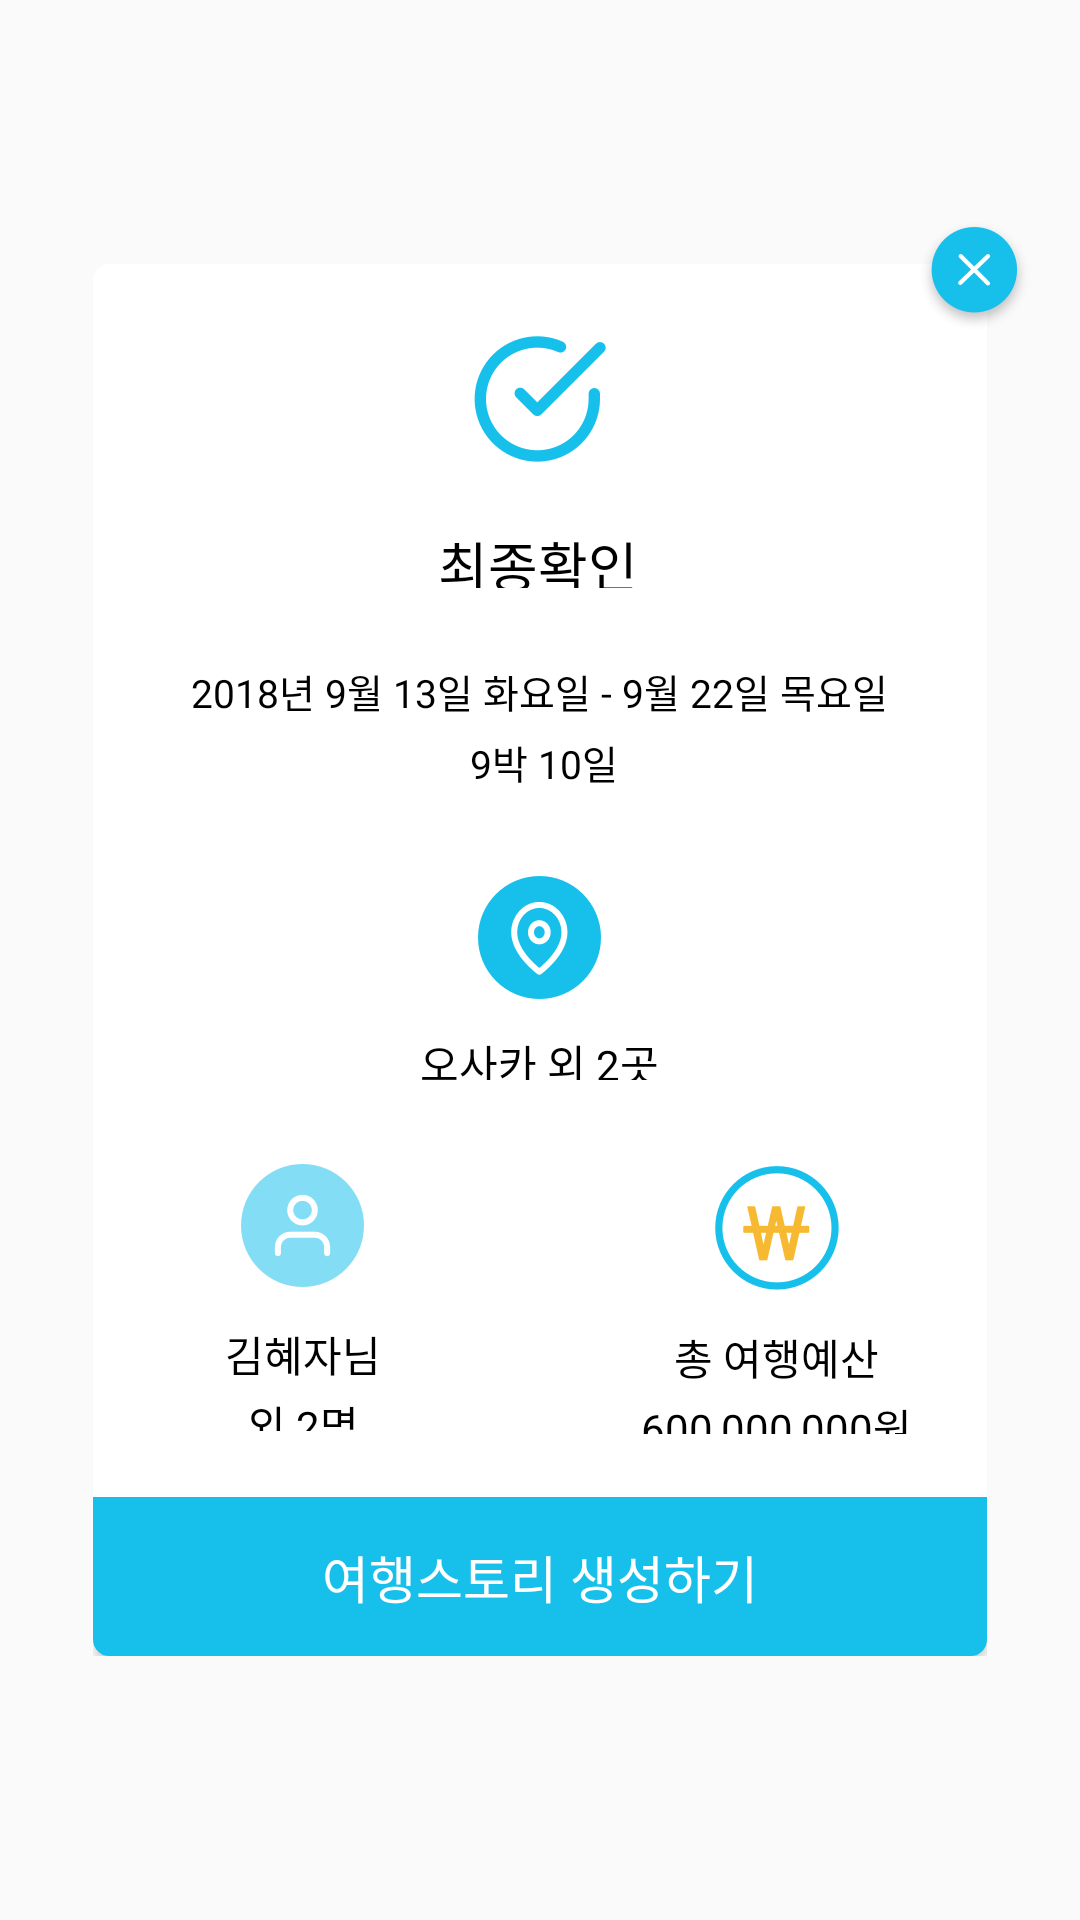

Icons on this 1080px×1920px Android screen, each with its box as (x1, y1, x2, y2):
room create dialog check: (474, 336, 606, 462)
room create dialog close: (931, 227, 1019, 319)
room create dialog money: (715, 1166, 839, 1290)
room create dialog place: (478, 876, 601, 999)
room create dialog user: (241, 1164, 364, 1287)
